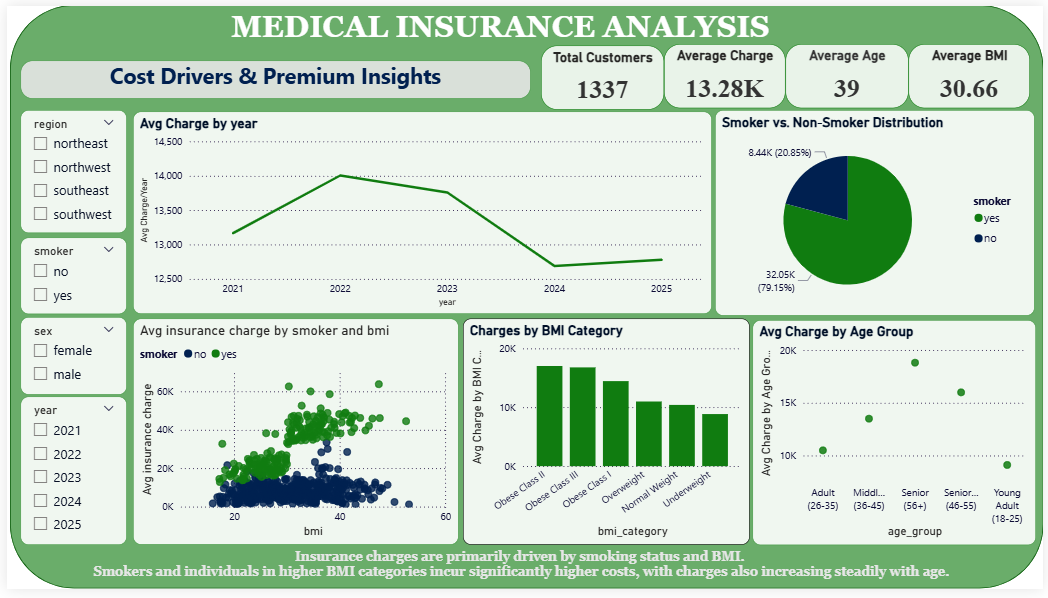

The dashboard page shown, as its layout file describes it:
{"tool":"powerbi","page":{"name":"Page 2","canvas":[1280,720],"ordinal":1},"visuals":[{"type":"shape","box":[3.7,0,1275.9,720.4],"z":0},{"type":"pieChart","title":"Smoker vs. Non‑Smoker Distribution","fields":{"Category":["Medical_insurance.smoker"],"Y":["MeasureTable.Avg Charge by Smoker"]},"box":[874.1,129.6,394.4,253.7],"z":1000},{"type":"lineClusteredColumnComboChart","title":"Charges by BMI Category","fields":{"Category":["Medical_insurance.bmi_category"],"Y":["MeasureTable.Avg Charge by BMI Category"]},"box":[563,387,353.7,279.6],"z":2000},{"type":"scatterChart","title":"Avg Charge by Age Group ","fields":{"X":["Medical_insurance.age_group"],"Y":["MeasureTable.Avg Charge by Age Group"]},"box":[920.4,388.9,350,277.8],"z":3000},{"type":"lineChart","title":"Avg Charge by year","fields":{"Category":["Medical_insurance.year"],"Y":["MeasureTable.Avg Charge/Year"]},"box":[155.6,131.5,714.8,250],"z":4000},{"type":"slicer","fields":{"Values":["Medical_insurance.region"]},"box":[16.7,129.6,131.5,151.9],"z":5000},{"type":"slicer","fields":{"Values":["Medical_insurance.sex"]},"box":[16.7,385.2,131.5,96.3],"z":6000},{"type":"slicer","fields":{"Values":["Medical_insurance.smoker"]},"box":[16.7,287,131.5,94.4],"z":7000},{"type":"textbox","title":"M","box":[57.9,0,1103.5,56.1],"z":8000},{"type":"scatterChart","fields":{"X":["Medical_insurance.bmi"],"Series":["Medical_insurance.smoker"],"Y":["MeasureTable.Avg insurance charge"]},"box":[155.6,387,401.9,279.6],"z":9000},{"type":"textbox","box":[15.8,68.4,629.8,47.4],"z":10000},{"type":"slicer","fields":{"Values":["Medical_insurance.year"]},"box":[16.7,483.3,131.5,183.3],"z":11000},{"type":"card","title":"Total Customers","fields":{"Values":["MeasureTable.Total individuals"]},"box":[659.3,50,151.9,79.6],"z":12000},{"type":"card","title":"Average Charge","fields":{"Values":["MeasureTable.Average insurance charge"]},"box":[811.1,48.1,150,79.6],"z":13000},{"type":"card","title":"Average Age","fields":{"Values":["MeasureTable.avg_Age"]},"box":[961.1,48.1,151.9,79.6],"z":14000},{"type":"card","title":"Average BMI","fields":{"Values":["MeasureTable.Avg BMI"]},"box":[1113,48.1,150,79.6],"z":15000},{"type":"textbox","box":[57.4,666.7,1155.6,53.7],"z":16000}]}

Visuals, with their boxes in screenshot pixels (x1, y1, x2, y2), scaled from the page's 1280x720 canvas onto the 1048x598 screenshot:
shape: detection(3, 0, 1047, 597)
"Smoker vs. Non‑Smoker Distribution" pieChart: detection(716, 108, 1039, 318)
"Charges by BMI Category" lineClusteredColumnComboChart: detection(461, 321, 751, 554)
"Avg Charge by Age Group " scatterChart: detection(754, 323, 1040, 554)
"Avg Charge by year" lineChart: detection(127, 109, 713, 317)
slicer - Medical_insurance.region: detection(14, 108, 121, 234)
slicer - Medical_insurance.sex: detection(14, 320, 121, 400)
slicer - Medical_insurance.smoker: detection(14, 238, 121, 317)
"M" textbox: detection(47, 0, 951, 47)
scatterChart - Medical_insurance.bmi x Medical_insurance.smoker: detection(127, 321, 456, 554)
textbox: detection(13, 57, 529, 96)
slicer - Medical_insurance.year: detection(14, 401, 121, 554)
"Total Customers" card: detection(540, 42, 664, 108)
"Average Charge" card: detection(664, 40, 787, 106)
"Average Age" card: detection(787, 40, 911, 106)
"Average BMI" card: detection(911, 40, 1034, 106)
textbox: detection(47, 554, 993, 597)
